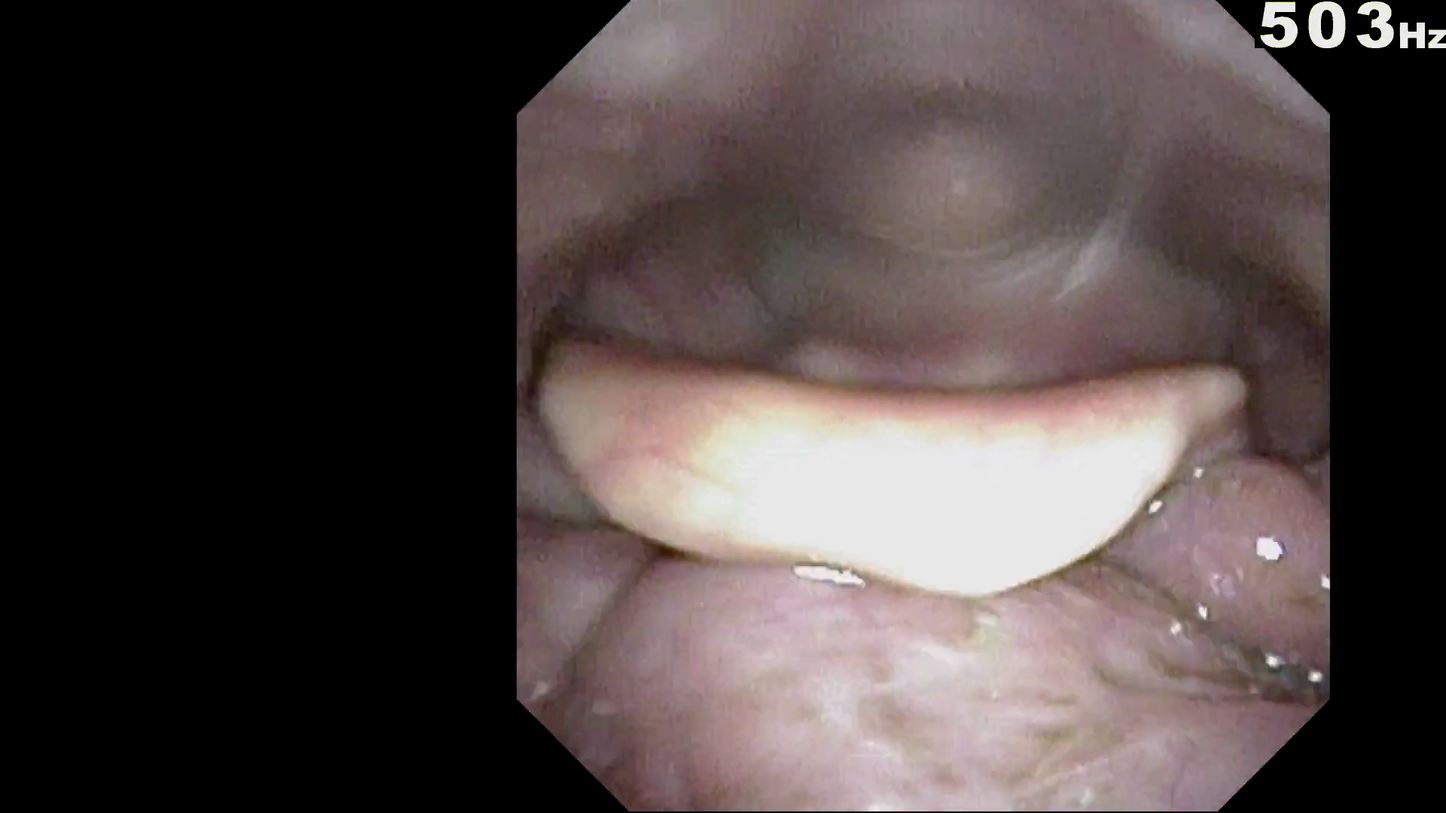epiglottis: (634, 386, 1249, 611)
